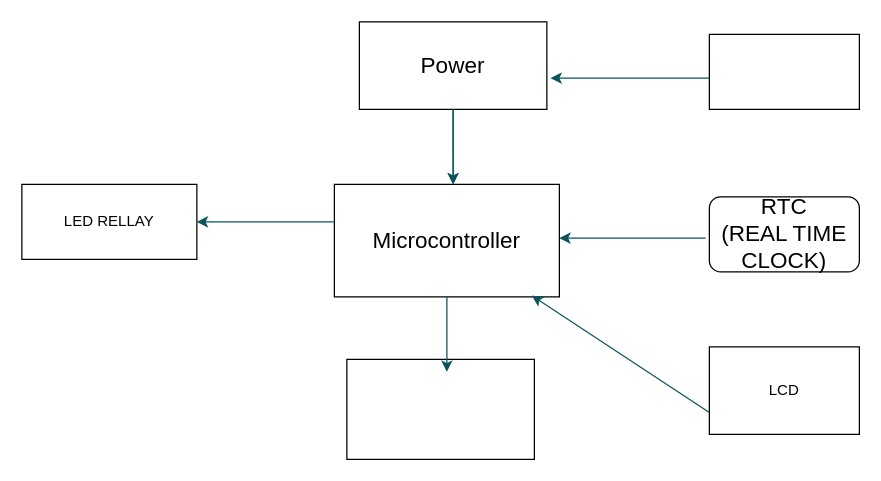
The diagram is 881 pixels wide and 481 high, and some of its shapes have lost their labels. The shapes that lost their labels are listed below. From the top down, each one's centre as x and y in pixels, then its label:
At (x=783, y=71): "sensor (LDR)".
At (x=440, y=408): "Ground".
